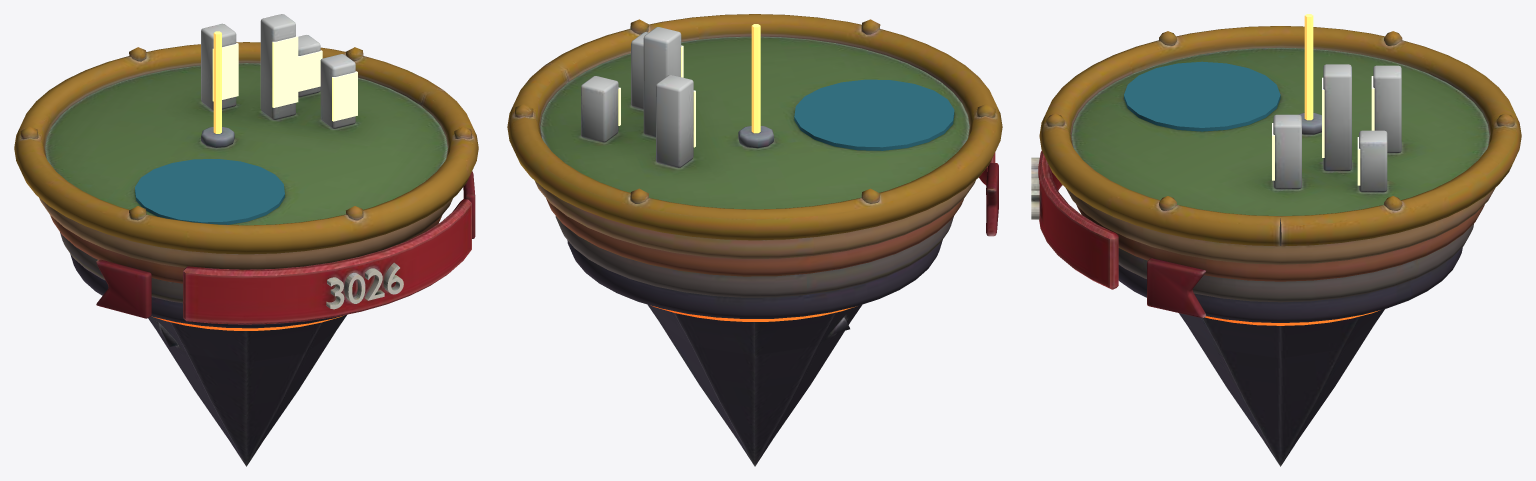
Rendered from badge_sf_base.glb.
3 views of the same model, side by side, from view 1: azimuth 30°, elevation 25°; view 2: azimuth 150°, elevation 25°; view 3: azimuth 270°, elevation 25° (orthographic). The views are drawn at different scales.
Visible parts, largest first — view 1: badge_sf_base, badge_sf_base_glow; view 2: badge_sf_base, badge_sf_base_glow; view 3: badge_sf_base, badge_sf_base_glow.
Boxes of the visible parts, left/top/right/bottom form: badge_sf_base: left=14, top=14, right=478, bottom=466; badge_sf_base_glow: left=135, top=31, right=357, bottom=330; badge_sf_base: left=507, top=14, right=1002, bottom=466; badge_sf_base_glow: left=618, top=24, right=954, bottom=321; badge_sf_base: left=1031, top=26, right=1521, bottom=466; badge_sf_base_glow: left=1124, top=14, right=1379, bottom=325.
Bounding box in the file's own units: 1.35 × 1.37 × 1.38.
Materials: 5 (1 with a texture image).
